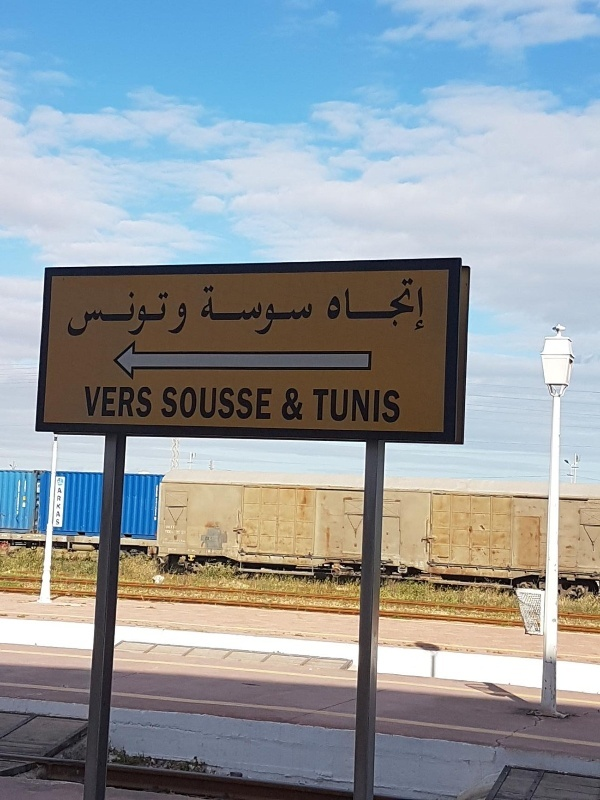text: (209, 279, 224, 337), (225, 279, 240, 337), (241, 279, 256, 337), (257, 279, 272, 337), (273, 279, 288, 337), (289, 279, 304, 337), (337, 277, 352, 332), (353, 277, 368, 332), (369, 277, 384, 332), (385, 277, 400, 332), (401, 277, 416, 332), (81, 289, 96, 339), (97, 289, 112, 339), (113, 289, 128, 339), (129, 289, 144, 339), (145, 289, 160, 339), (66, 289, 80, 339), (305, 279, 316, 337), (321, 386, 336, 425), (337, 386, 352, 425), (353, 386, 368, 425), (369, 386, 384, 425), (385, 386, 400, 425), (198, 279, 208, 337), (326, 277, 336, 332), (417, 277, 427, 332), (161, 387, 176, 422), (177, 387, 192, 422), (193, 387, 208, 422), (209, 387, 224, 422), (225, 387, 240, 422), (241, 387, 256, 422), (257, 387, 272, 422), (289, 387, 304, 422), (177, 299, 190, 336), (97, 386, 112, 418), (113, 386, 128, 418), (129, 386, 144, 418), (161, 289, 169, 339), (310, 386, 320, 425), (84, 386, 96, 418), (145, 386, 155, 418), (57, 487, 64, 525), (282, 387, 288, 422), (172, 299, 176, 336), (273, 387, 276, 422), (401, 386, 402, 425), (159, 387, 160, 422)
